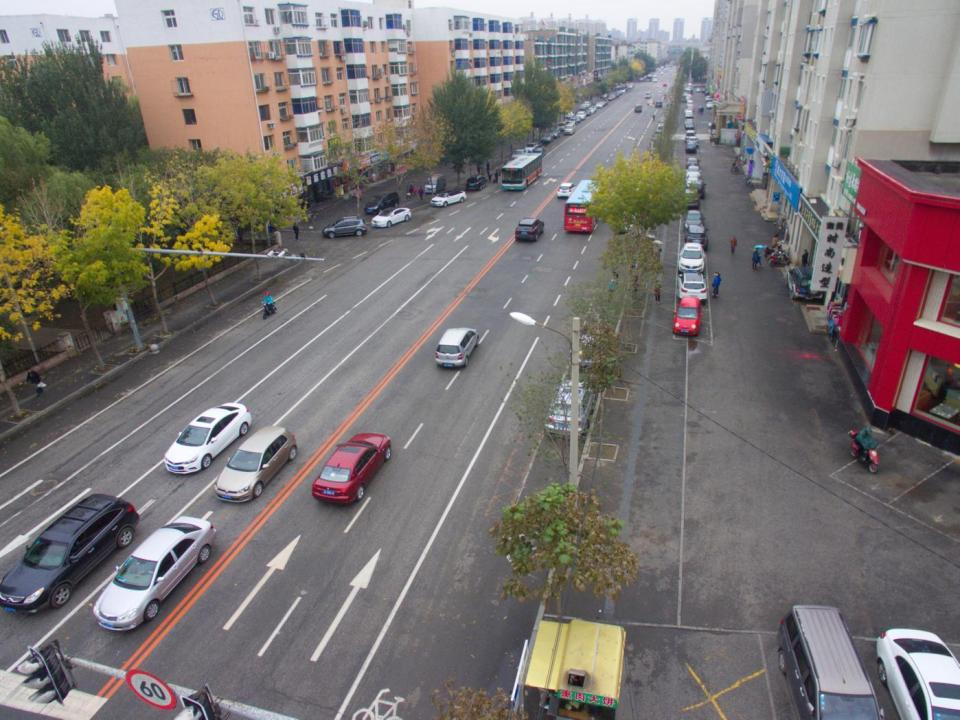bus: (563, 179, 605, 234), (500, 152, 542, 192)
car: (1, 491, 138, 616), (95, 519, 216, 631), (875, 627, 958, 718), (214, 425, 296, 504), (165, 401, 250, 476), (312, 432, 393, 506), (546, 380, 590, 442), (436, 326, 476, 368), (787, 265, 824, 303), (578, 330, 609, 370), (674, 296, 702, 336), (678, 270, 708, 306), (323, 216, 368, 240), (678, 242, 704, 277), (370, 207, 413, 228), (365, 191, 400, 213), (513, 218, 544, 242), (431, 190, 467, 208), (682, 224, 708, 247), (684, 210, 704, 236), (467, 173, 487, 193), (689, 179, 706, 200), (685, 189, 700, 209), (558, 182, 576, 198), (685, 174, 701, 190), (685, 166, 701, 182), (684, 158, 701, 169), (549, 128, 562, 139), (534, 146, 545, 158), (522, 143, 538, 151), (512, 149, 526, 158), (689, 136, 700, 147), (650, 138, 662, 148), (686, 141, 695, 154), (654, 130, 665, 140), (584, 107, 596, 116), (542, 132, 552, 142), (556, 122, 567, 130), (570, 116, 582, 123), (657, 123, 667, 131), (686, 116, 694, 125), (566, 110, 575, 118), (685, 121, 695, 128), (706, 101, 714, 109), (635, 104, 642, 112), (597, 102, 605, 109), (654, 101, 660, 109), (648, 99, 654, 106), (600, 99, 606, 106), (583, 102, 591, 107), (608, 96, 614, 102), (579, 105, 586, 110)
van: (776, 605, 882, 717), (425, 173, 446, 194), (564, 124, 576, 135), (686, 129, 696, 142), (577, 110, 586, 122), (645, 94, 650, 98)
